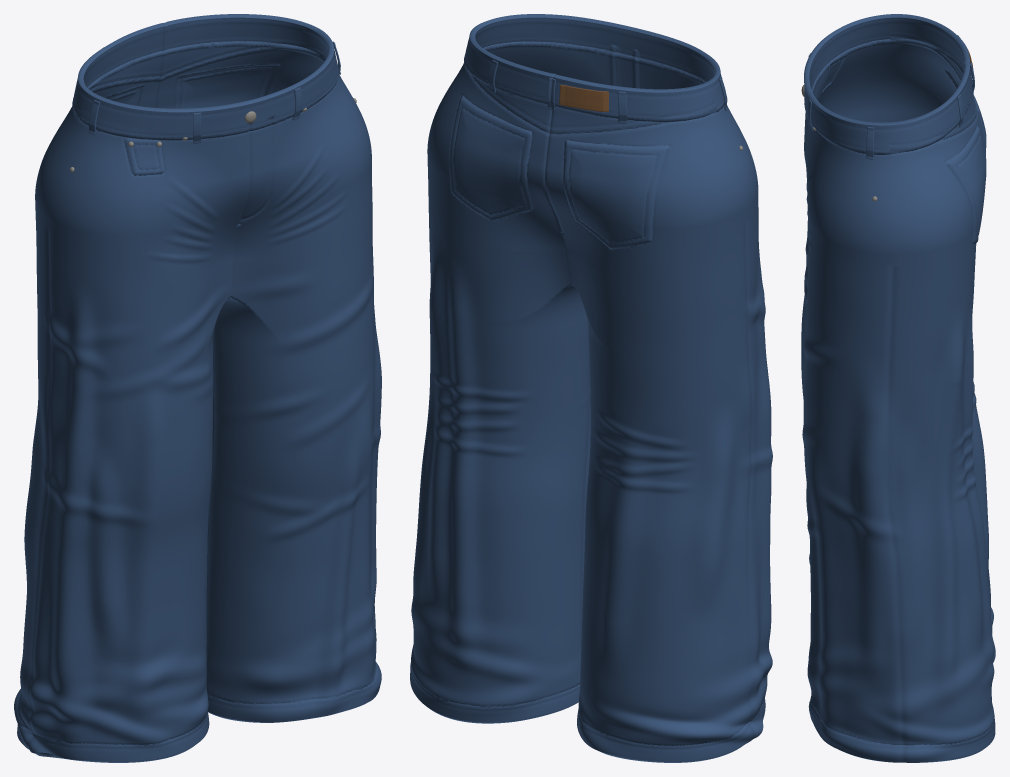
The model's file is 24_vaquero_wide_leg.glb.
The picture shows the model from 3 angles, left to right: view 1: azimuth 30°, elevation 25°; view 2: azimuth 150°, elevation 25°; view 3: azimuth 270°, elevation 25°; orthographic projection. The views are drawn at different scales.
Parts seen in each view (by area): view 1: body; view 2: body, trim; view 3: body.
Part boxes in pixels (x1=…): body: x1=14, y1=14, x2=381, y2=762; body: x1=410, y1=14, x2=772, y2=762; trim: x1=559, y1=84, x2=608, y2=111; body: x1=801, y1=14, x2=995, y2=762.
Size of the model in its own units: 0.5457 by 1.03 by 0.2848.
